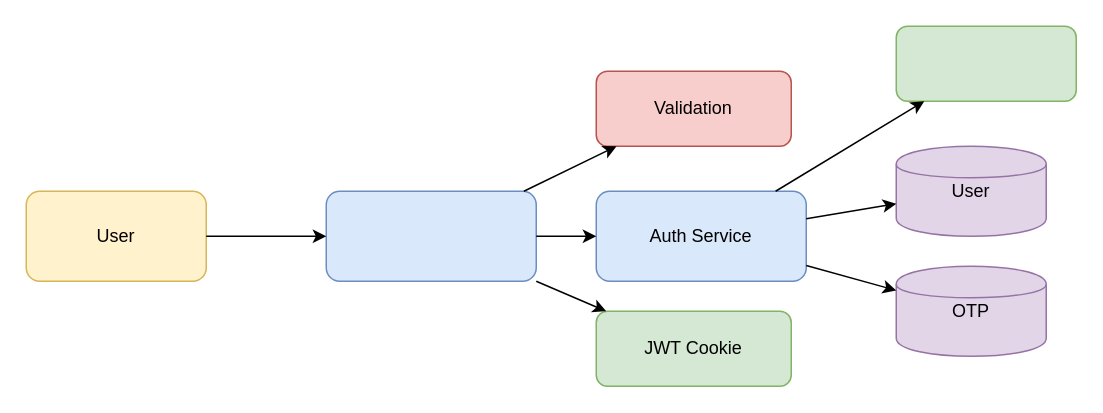
Some shapes in this 1103 by 413 pixel diagram are drawn without their labels. Each missing label, with the centre of its shape:
"Auth Controller" belongs at pixel 430 235.
"Email API" belongs at pixel 985 63.
